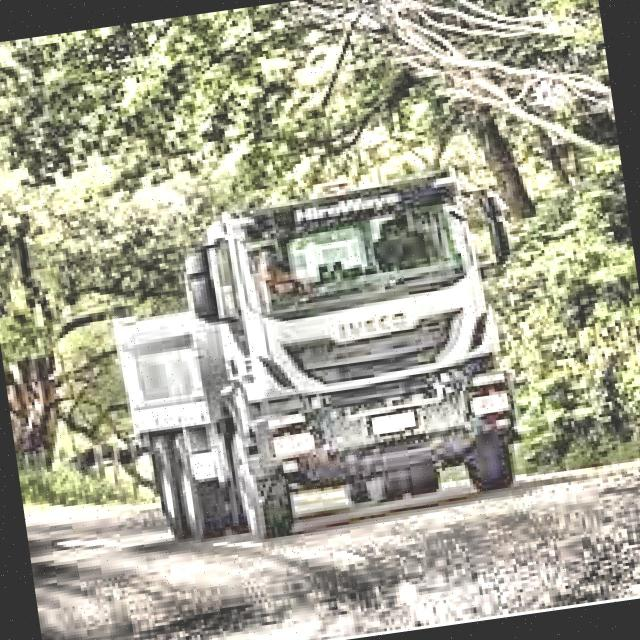dump_truck: (103, 159, 542, 561)
